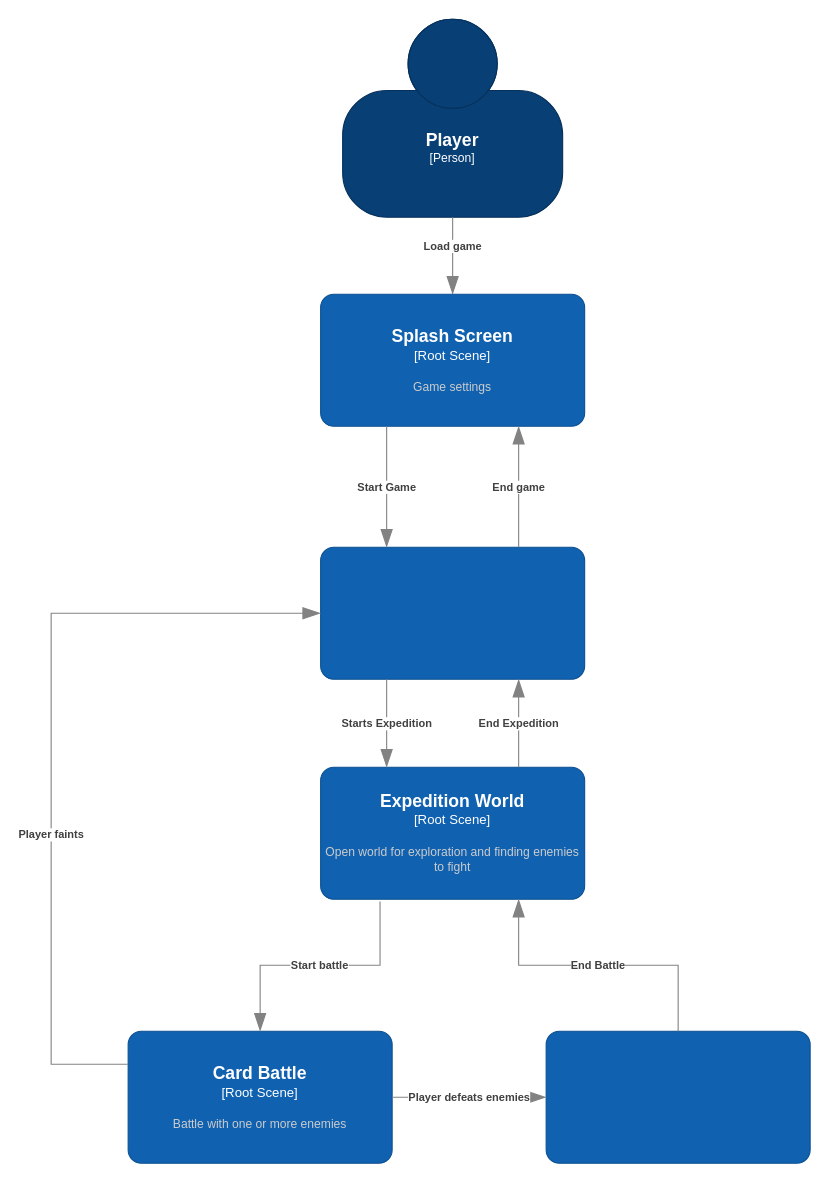
Some shapes in this 829 by 1183 pixel diagram are drawn without their labels. Here are the shapes that lost their labels. From the top down, the box of each, then its label:
(320, 546, 585, 679): Player Hub [Root Scene] Systems for managing resources
(545, 1030, 810, 1163): Rewards Screen [Root Scene] Player chooses rewards from battle
